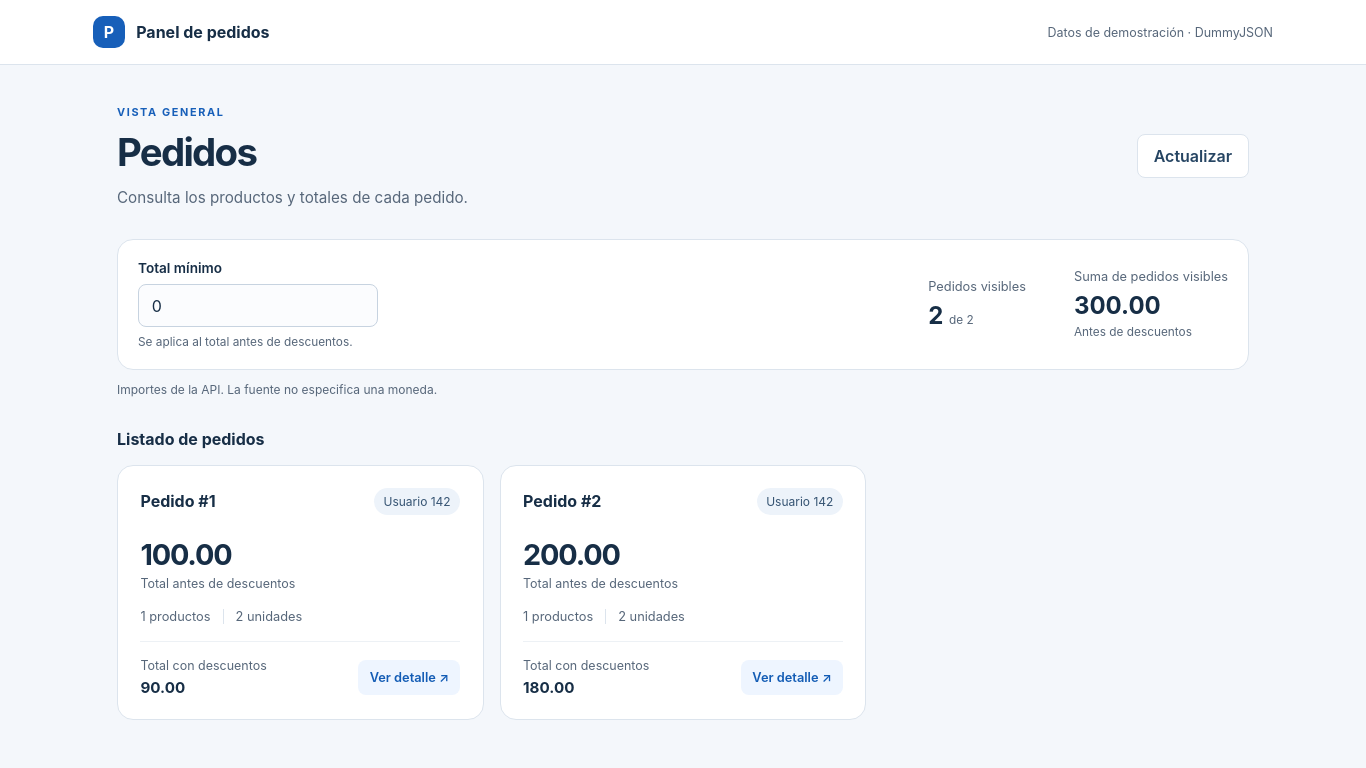
Test case: OrdersPageComponent › opens detail from the card output and hides it when its order is filtered out
This screenshot has width=1366, height=768.
Click the button "Ver detalle ↗" in the row of "90.00" at {"x": 409, "y": 678}, box [358,660,460,695]
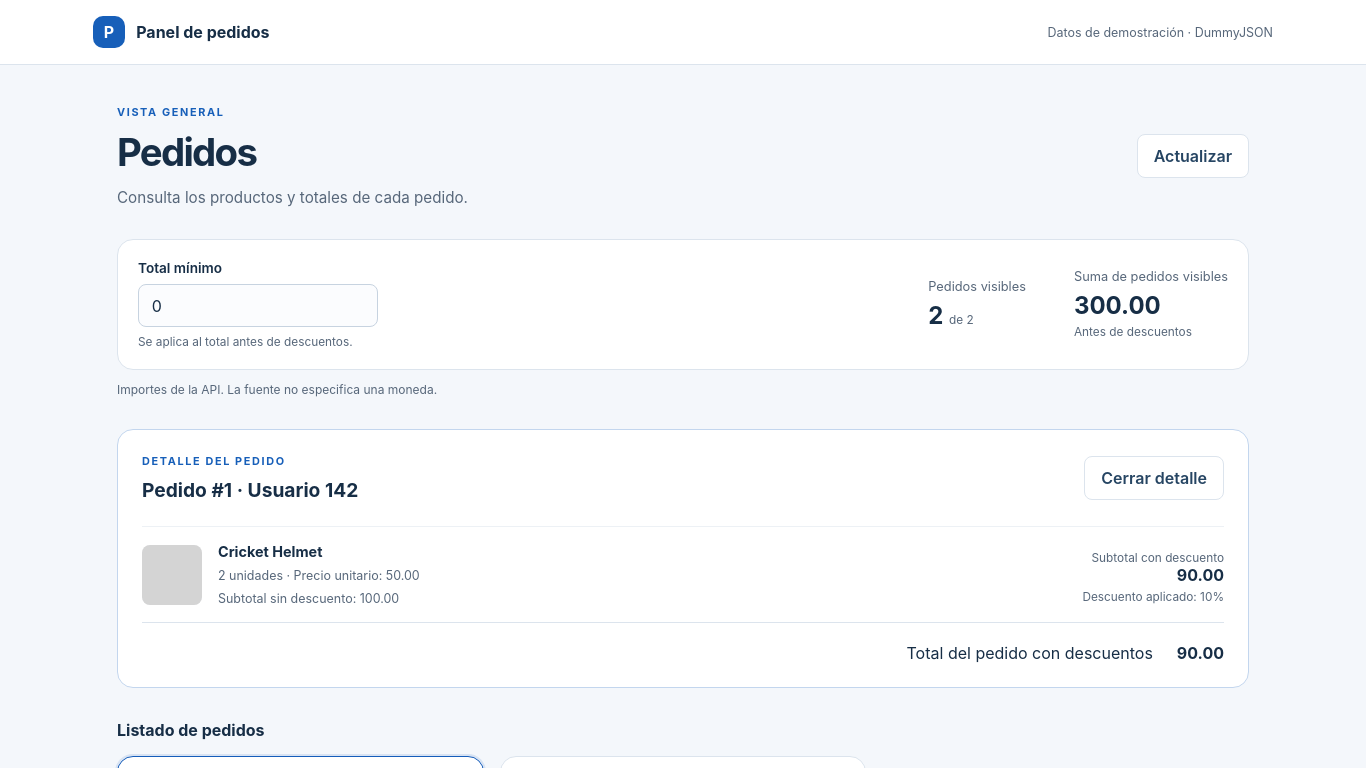
Check: the element with id "order-detail" shows "Cricket Helmet", box [218,543,322,560]
